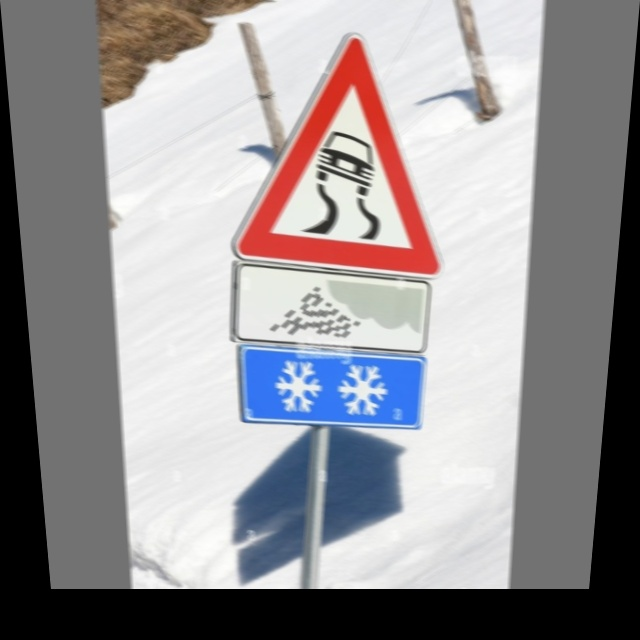Slippery_Road: (234, 34, 450, 271)
